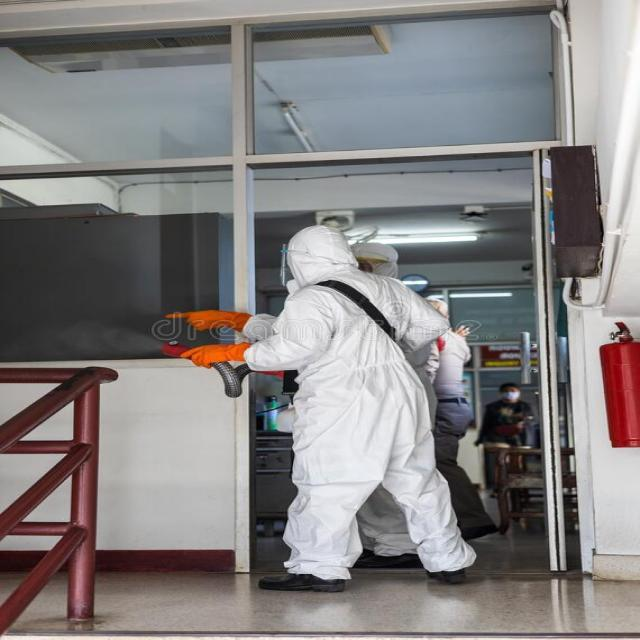fire_extinguisher: (593, 316, 639, 452)
